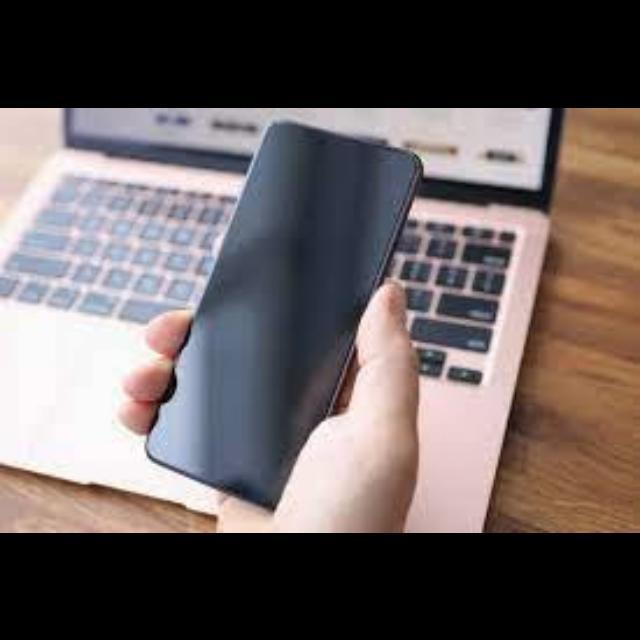PhoneUse: (144, 118, 423, 510)
